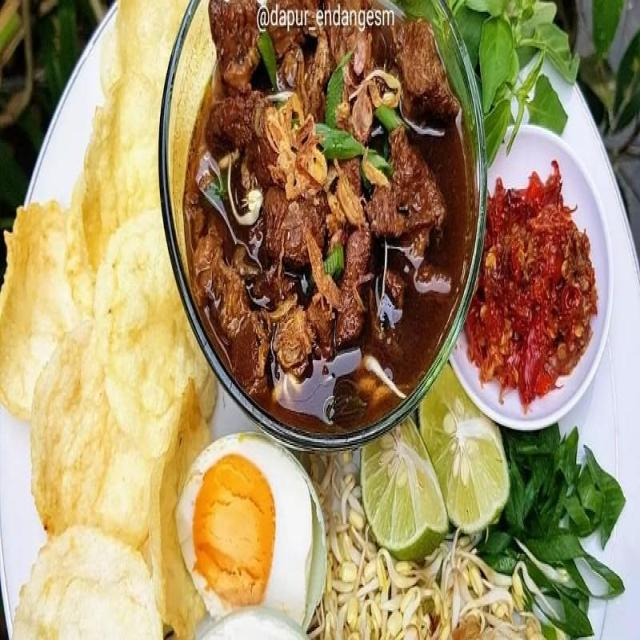Rawon: (169, 15, 470, 407)
